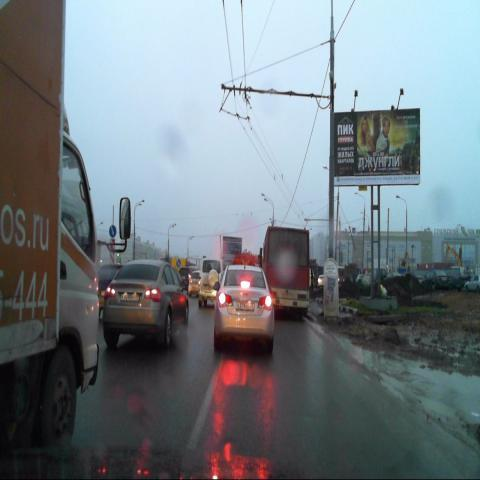4_2_1: (108, 224, 116, 238)
